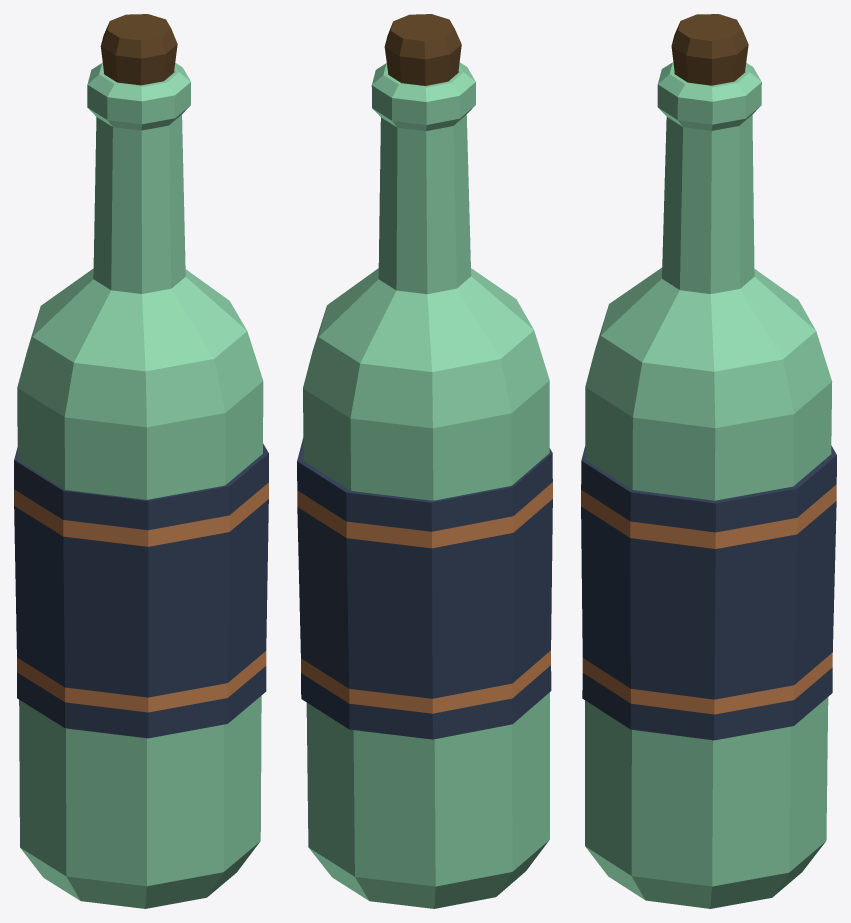
The model's file is Wine_bottle.fbx.
3 views of the same model, side by side, from view 1: azimuth 30°, elevation 25°; view 2: azimuth 150°, elevation 25°; view 3: azimuth 270°, elevation 25° (orthographic).
Visible parts, largest first — view 1: Wine_bottle; view 2: Wine_bottle; view 3: Wine_bottle.
Part boxes in pixels (<box>): Wine_bottle: <box>14,14,268,908</box>; Wine_bottle: <box>297,14,552,908</box>; Wine_bottle: <box>581,14,836,908</box>.
Bounding box in the file's own units: 0.0828 × 0.3018 × 0.0832.
